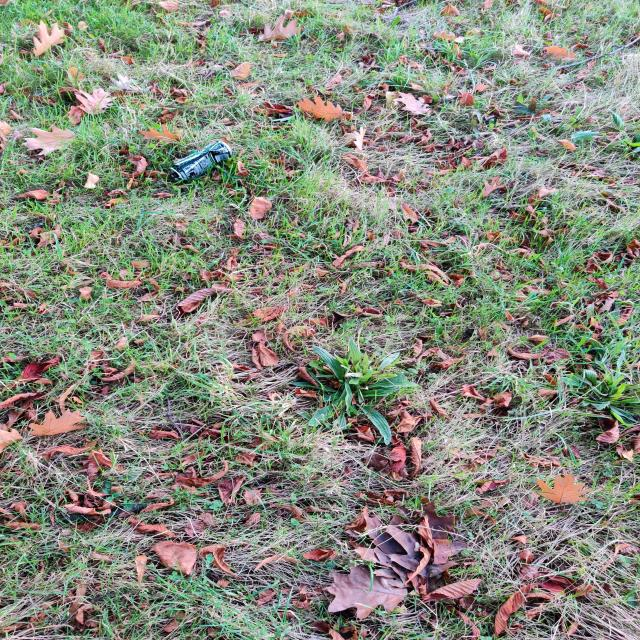litter: (167, 140, 232, 182)
